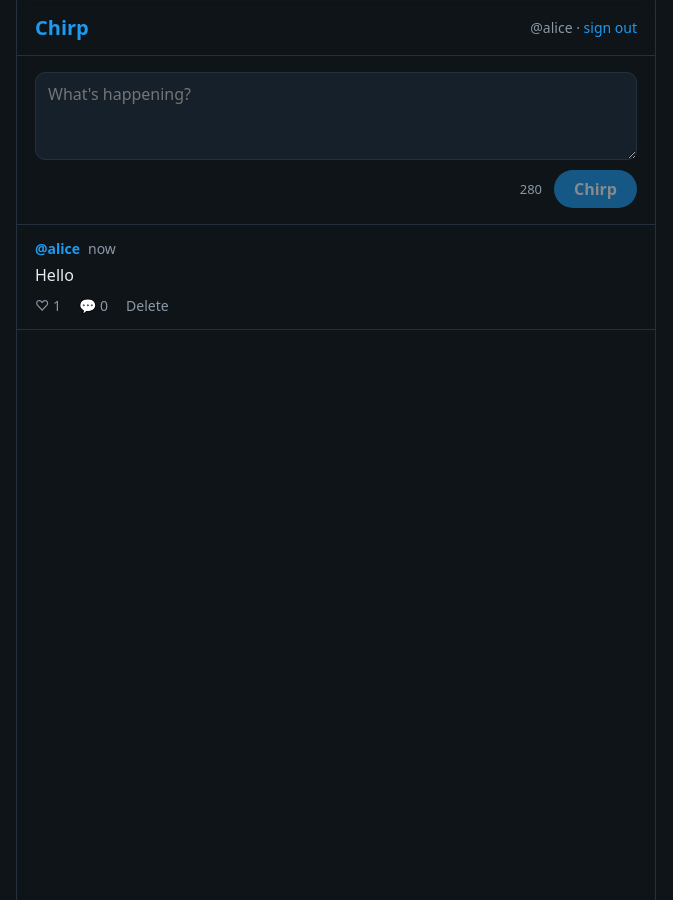
Test case: App › returns from a deleted thread and keeps a failed composer draft
Click the text "Hello": (54, 275) [35,264,74,286]
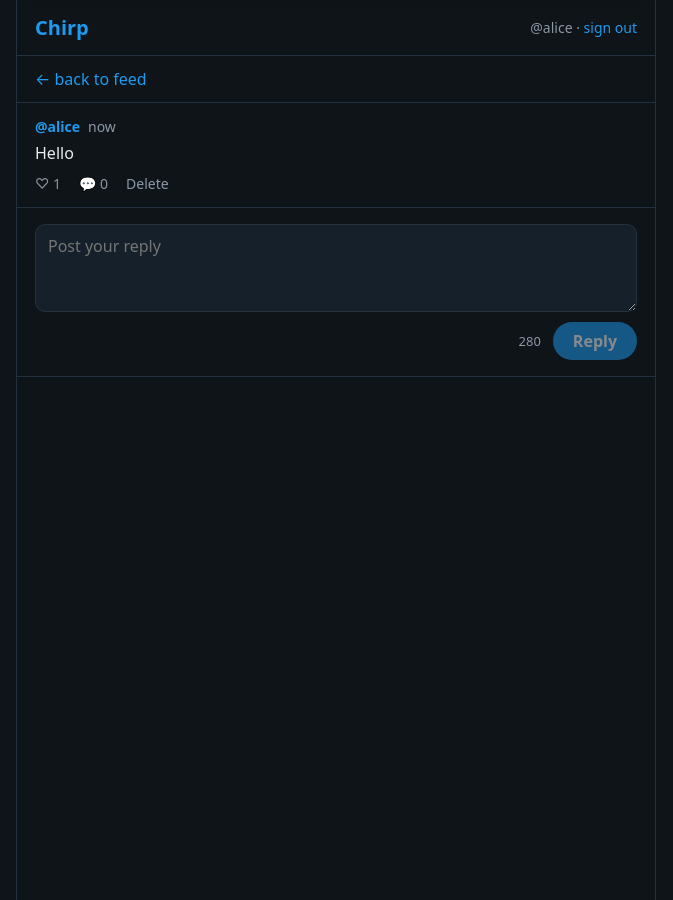
Click the button "Delete": (147, 184) [126,174,169,193]
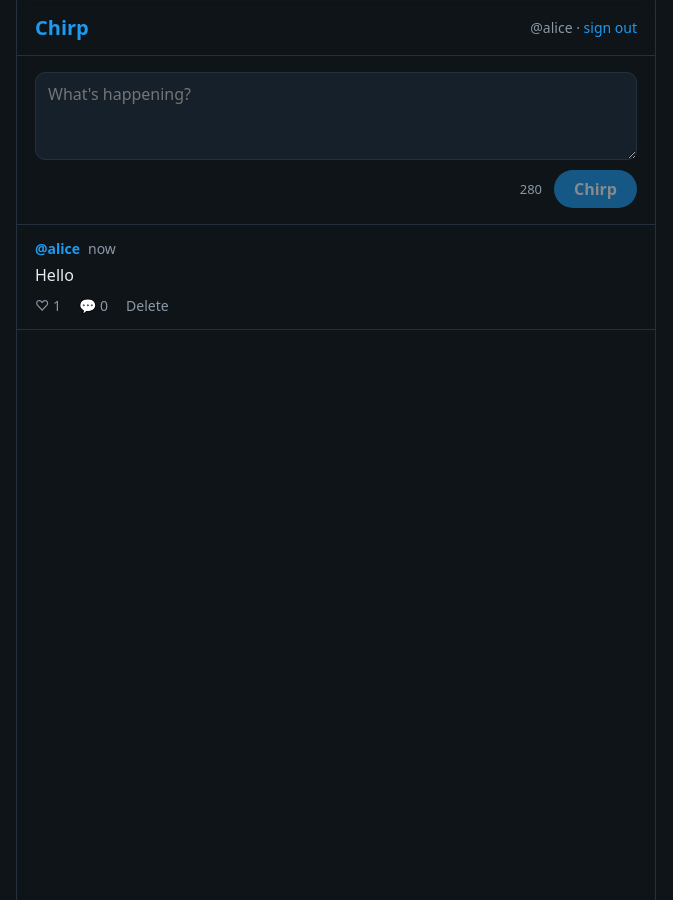
Now the text box with placeholder "What's happening?" is shown
In the text box with placeholder "What's happening?": (336, 116) [35,72,637,160], type "keep me"
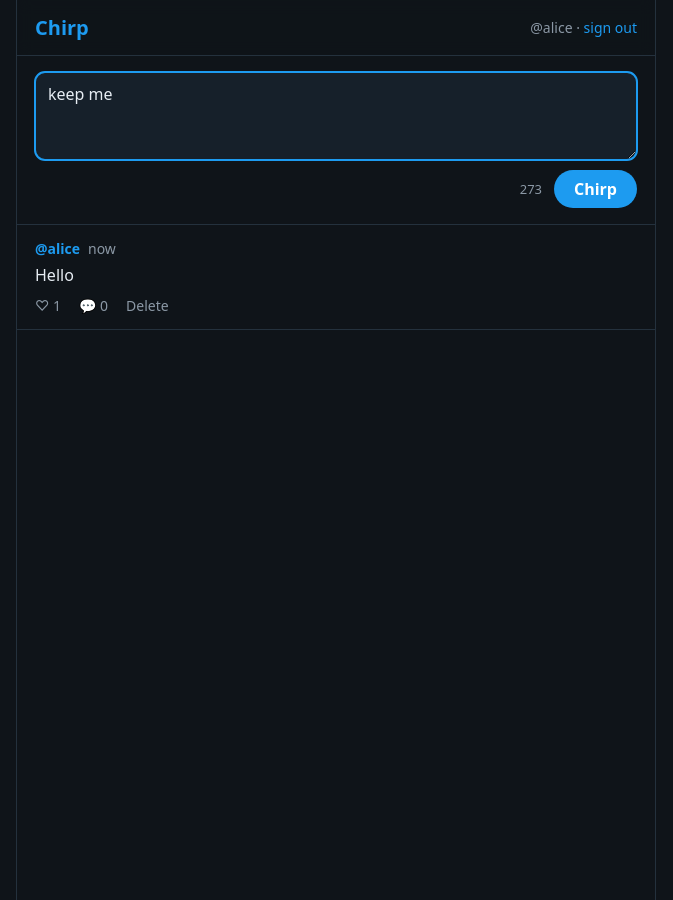
Click the button "Chirp" next to "273": (596, 189) [554,170,637,208]
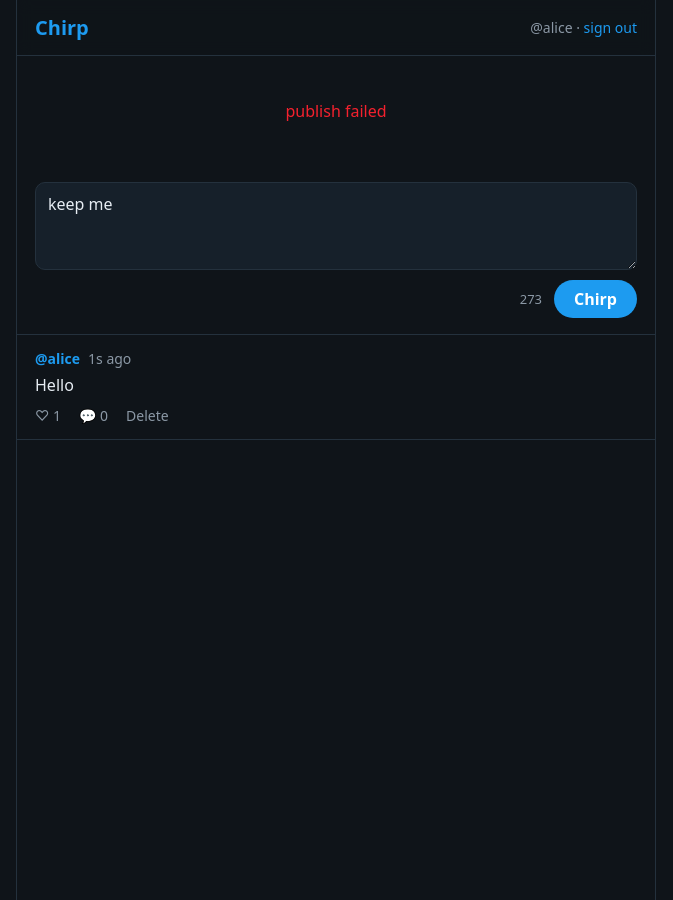
Now the text "publish failed" is shown, box [285,100,386,122]
